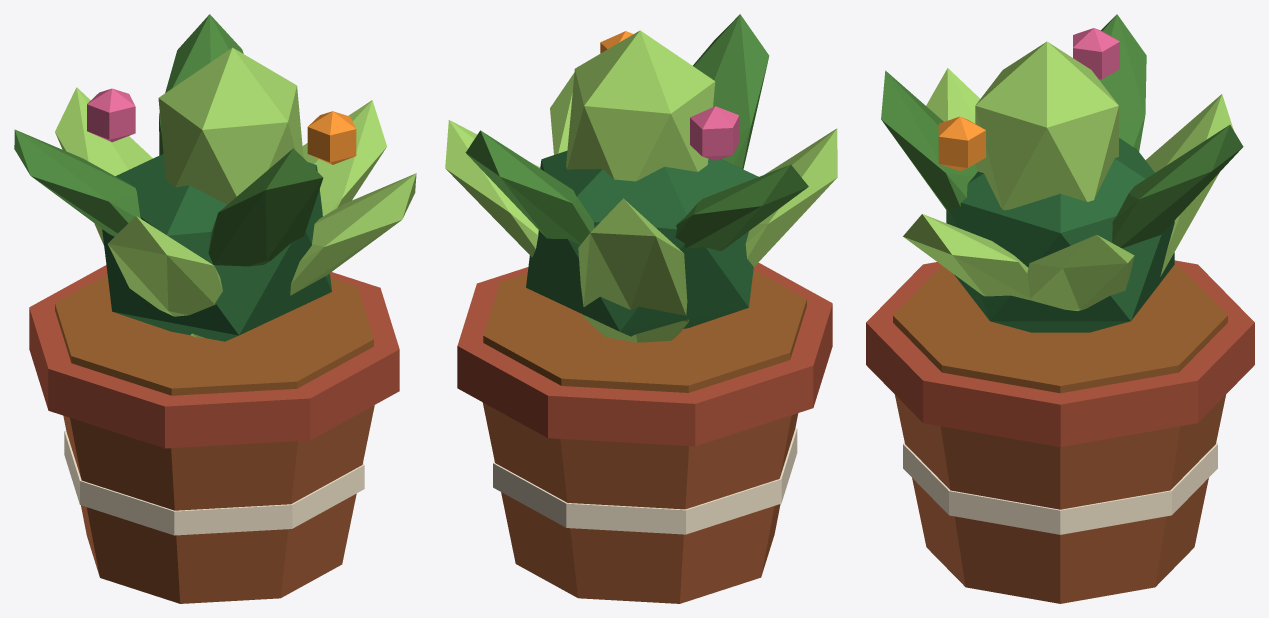
The model's file is plant_pot.glb.
The picture shows the model from 3 angles, left to right: view 1: azimuth 30°, elevation 25°; view 2: azimuth 150°, elevation 25°; view 3: azimuth 270°, elevation 25°; orthographic projection.
Parts seen in each view (by area): view 1: plant_pot; view 2: plant_pot; view 3: plant_pot.
Part boxes in pixels (box(x1,y1,x2,y2)): plant_pot: box(14, 14, 416, 603); plant_pot: box(445, 14, 837, 603); plant_pot: box(866, 14, 1254, 603).
Bounding box in the file's own units: 0.6089 × 0.842 × 0.58.
Materials: 1 (1 with a texture image).
